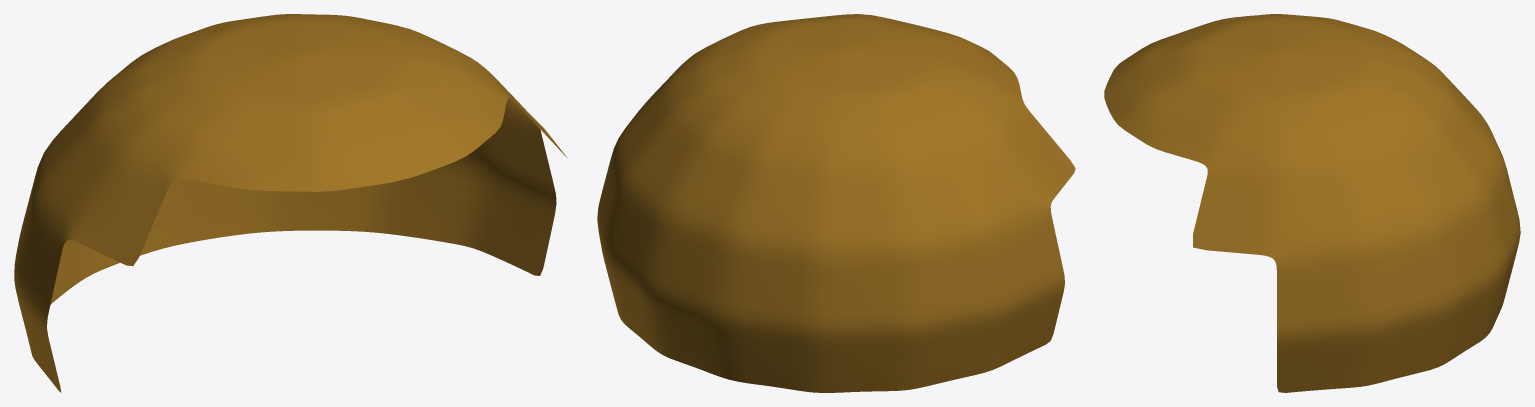
The model's file is dreads.fbx.
3 renders of one model, left to right at view 1: azimuth 30°, elevation 25°; view 2: azimuth 150°, elevation 25°; view 3: azimuth 270°, elevation 25°, orthographic. The views are drawn at different scales.
Parts seen in each view (by area): view 1: Retopo_hair; view 2: Retopo_hair; view 3: Retopo_hair.
Boxes of the visible parts, <box> form: Retopo_hair: <box>14,14,567,392</box>; Retopo_hair: <box>597,14,1075,392</box>; Retopo_hair: <box>1104,14,1520,392</box>.
Size of the model in its own units: 31.3 by 16.93 by 25.74.
